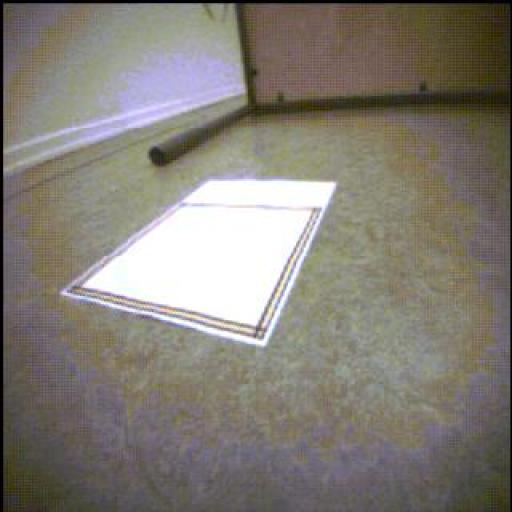Pad: (63, 180, 337, 347)
